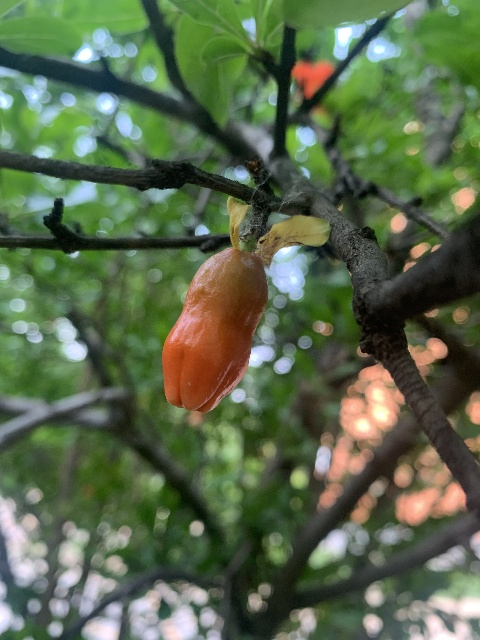bud: (162, 246, 268, 413)
